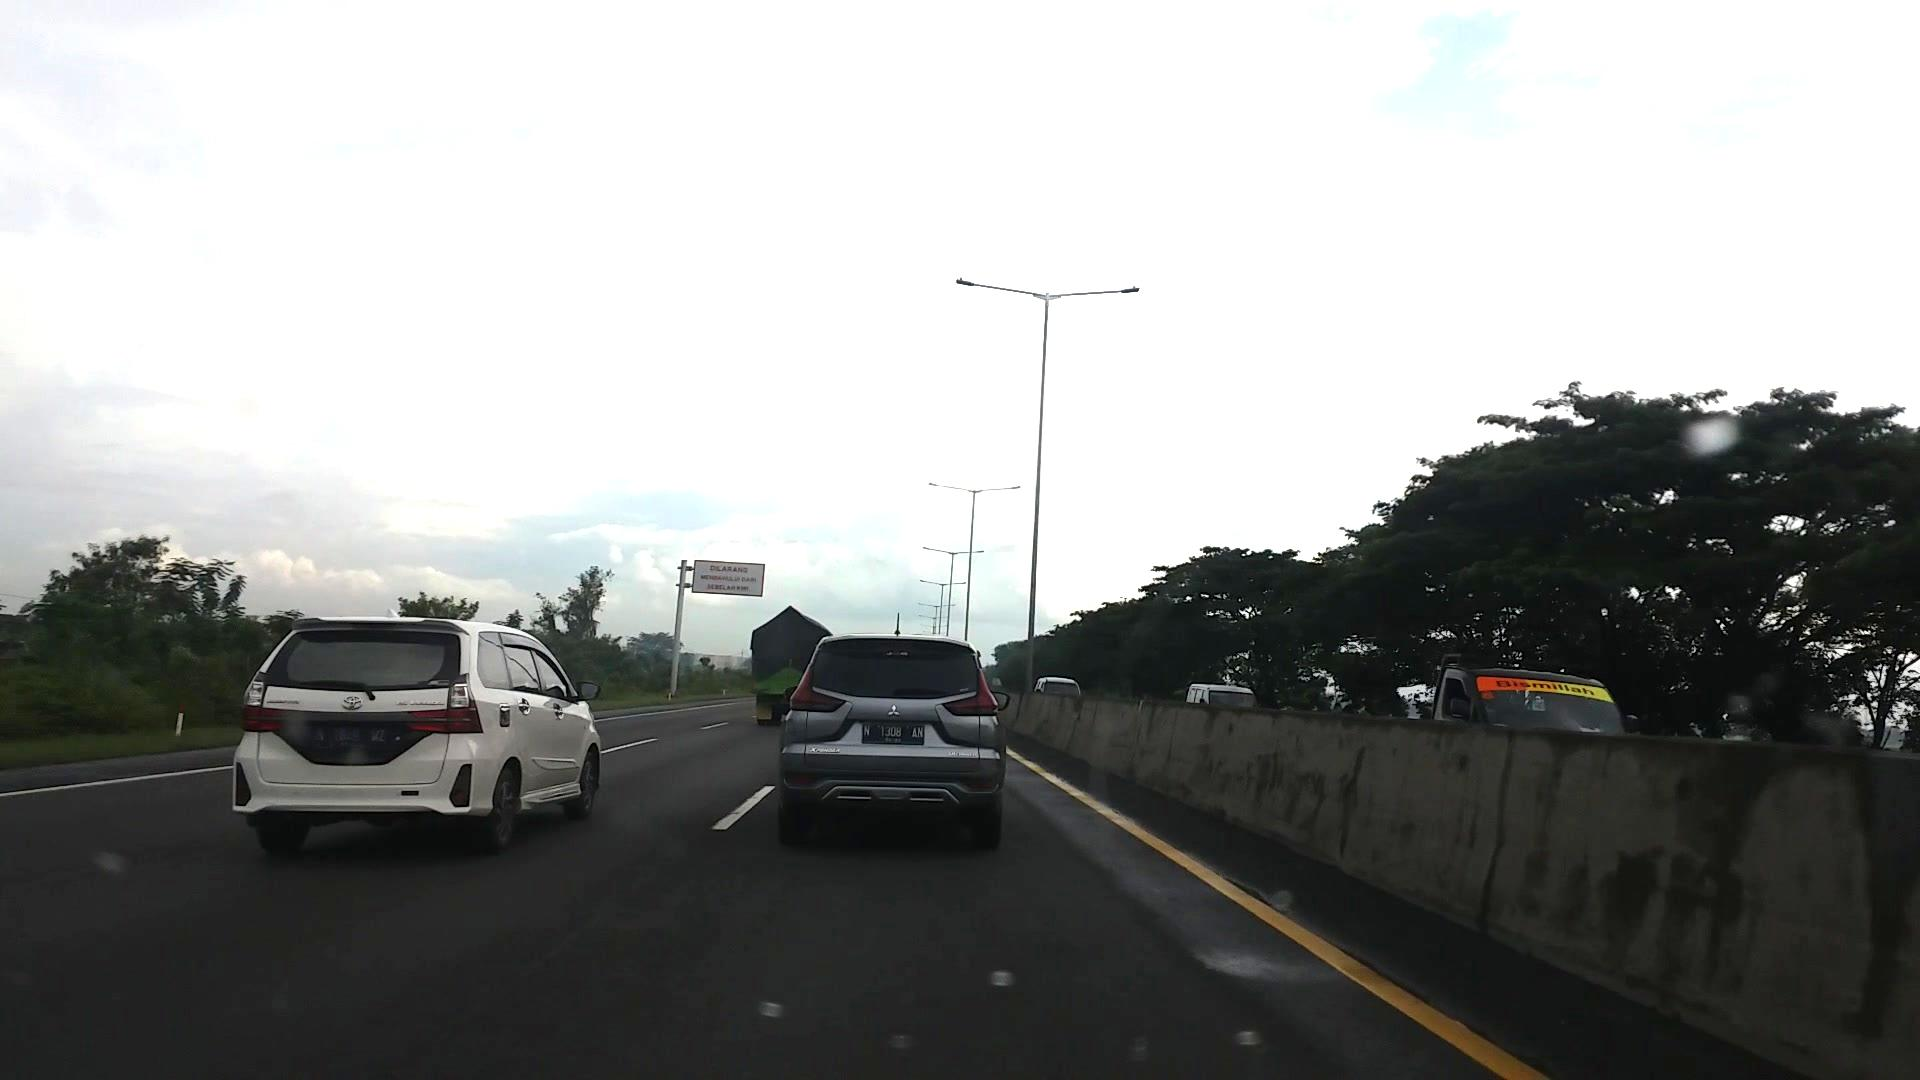plate_positive: (862, 721, 923, 745)
